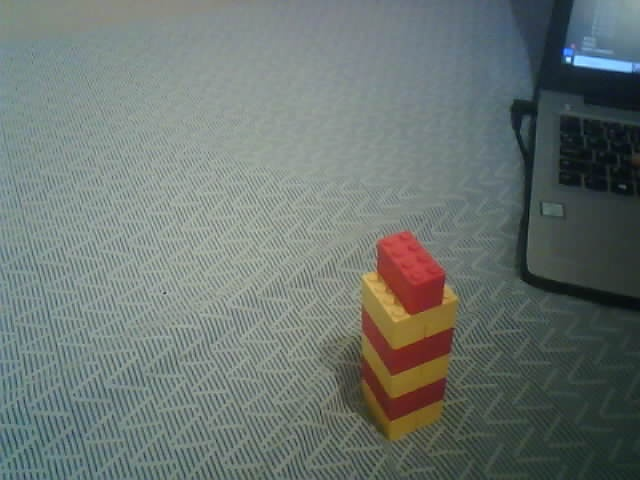lego: (358, 230, 460, 441)
